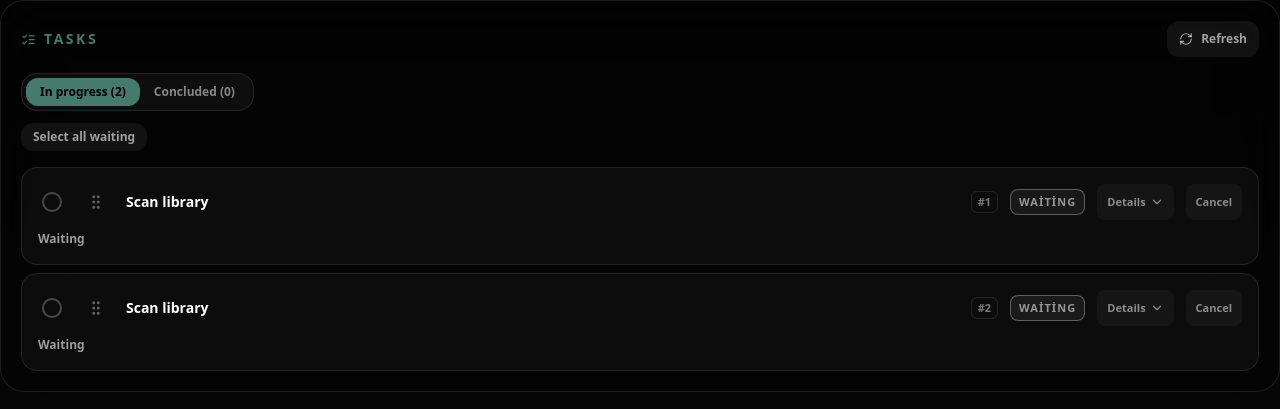
selecting several waiting tasks › ticks and unticks a row, and counts the selection
The image size is (1280, 409).
Check: the number of list items is 2, box x1=21 y1=167 x2=1259 y2=265; x1=21 y1=273 x2=1259 y2=371
Click the checkbox named "Select Scan library" in the row of "#1" at {"x": 52, "y": 202}, box x1=42 y1=192 x2=62 y2=212
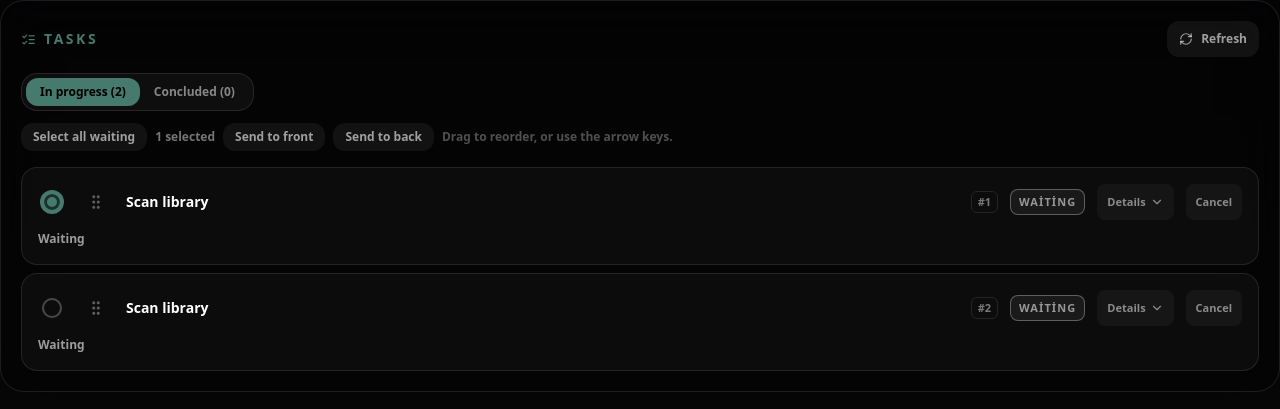
Check: the text "1 selected" is shown, box x1=155 y1=129 x2=215 y2=145
Click the checkbox named "Select Scan library" in the row of "#1" at {"x": 52, "y": 202}, box x1=42 y1=192 x2=62 y2=212
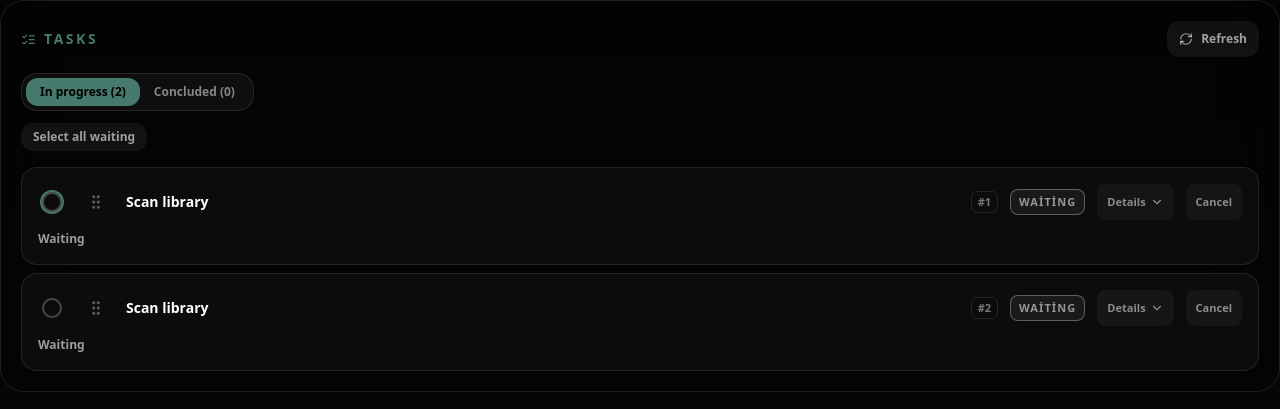
Check: the text "1 selected" is gone
